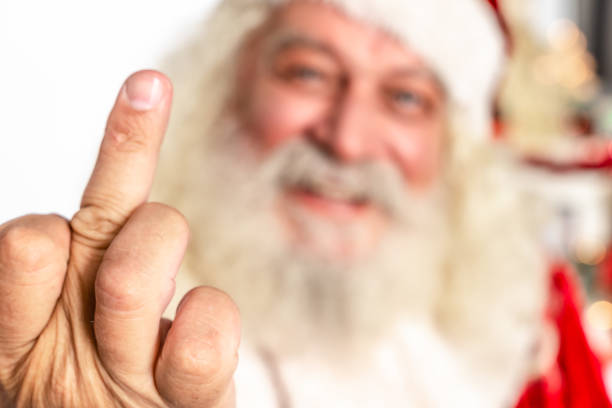insulting_gesture: (0, 68, 246, 408)
